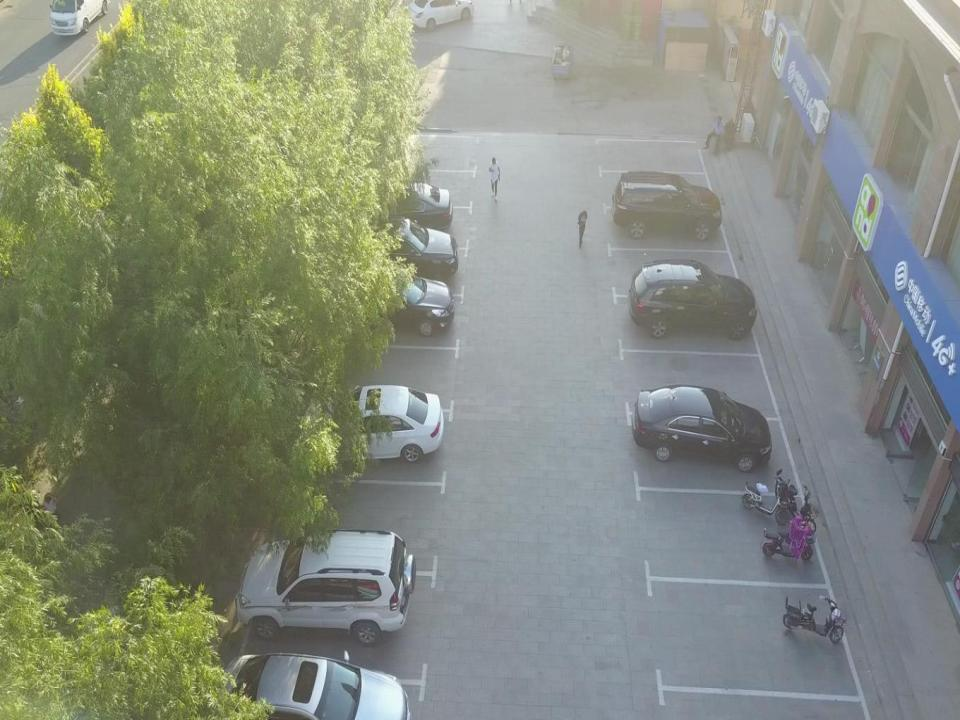car: (237, 527, 415, 644), (215, 649, 411, 720), (632, 386, 771, 472), (306, 383, 445, 465), (627, 258, 756, 342), (612, 169, 721, 240), (347, 216, 458, 282), (348, 273, 455, 337), (351, 183, 453, 234), (406, 0, 475, 32)
van: (48, 0, 112, 37)
